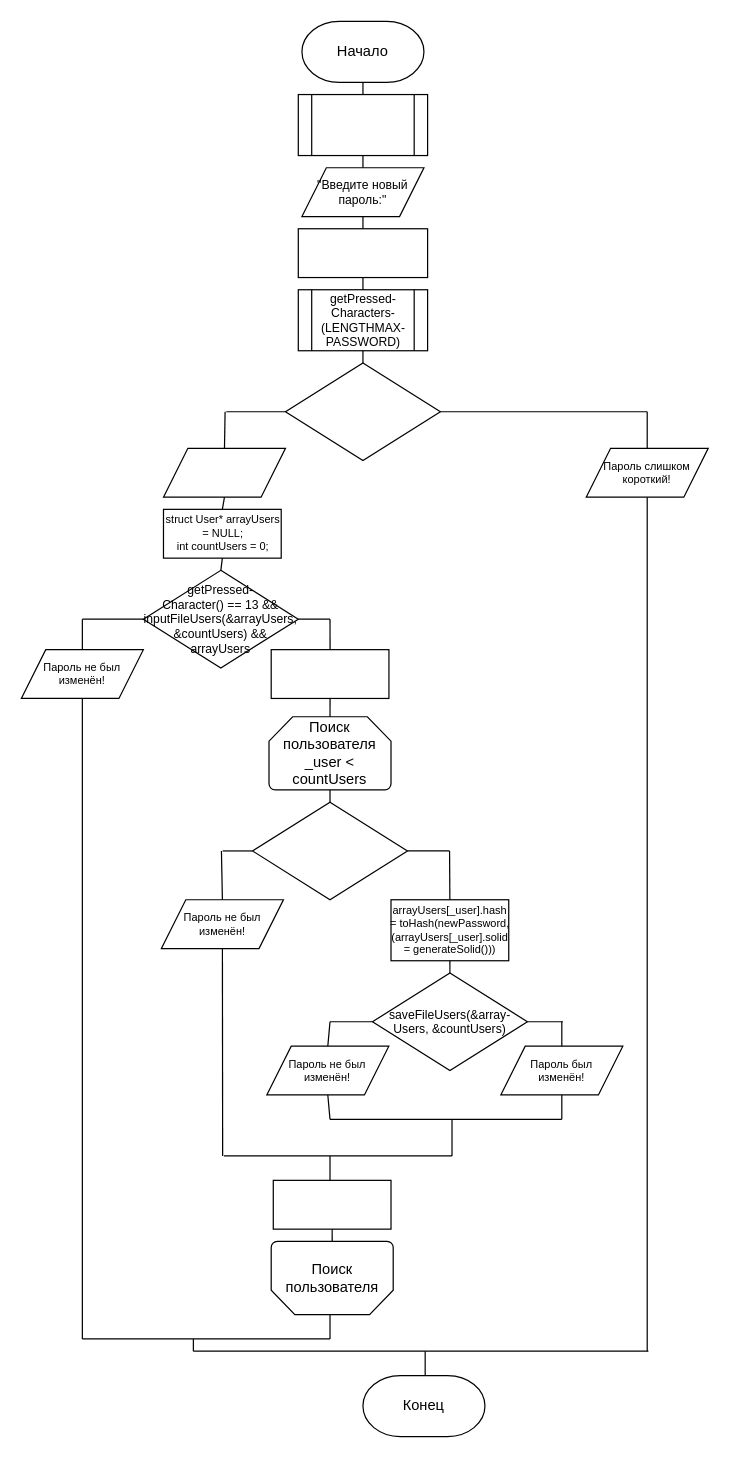
The diagram is 730 pixels wide and 1458 high, and some of its shapes have lost their labels. The shapes that lost their labels are listed below. From the top down, each one's box as (x1, y1, x2, y2) in pixels, then its label:
(297, 93, 428, 156): clearConsole()
(297, 228, 428, 278): char* newPassword
(284, 362, 440, 461): strlen- (newPassword) < LENGTHMIN- PASSWORD
(162, 447, 285, 497): Подтвердить новый пароль[Enter], иначе[любая другая клавиша].
(270, 648, 389, 698): _user = 0
(251, 801, 407, 900): arrayUsers[_user].id == currentUser.id
(272, 1179, 391, 1229): _user++
